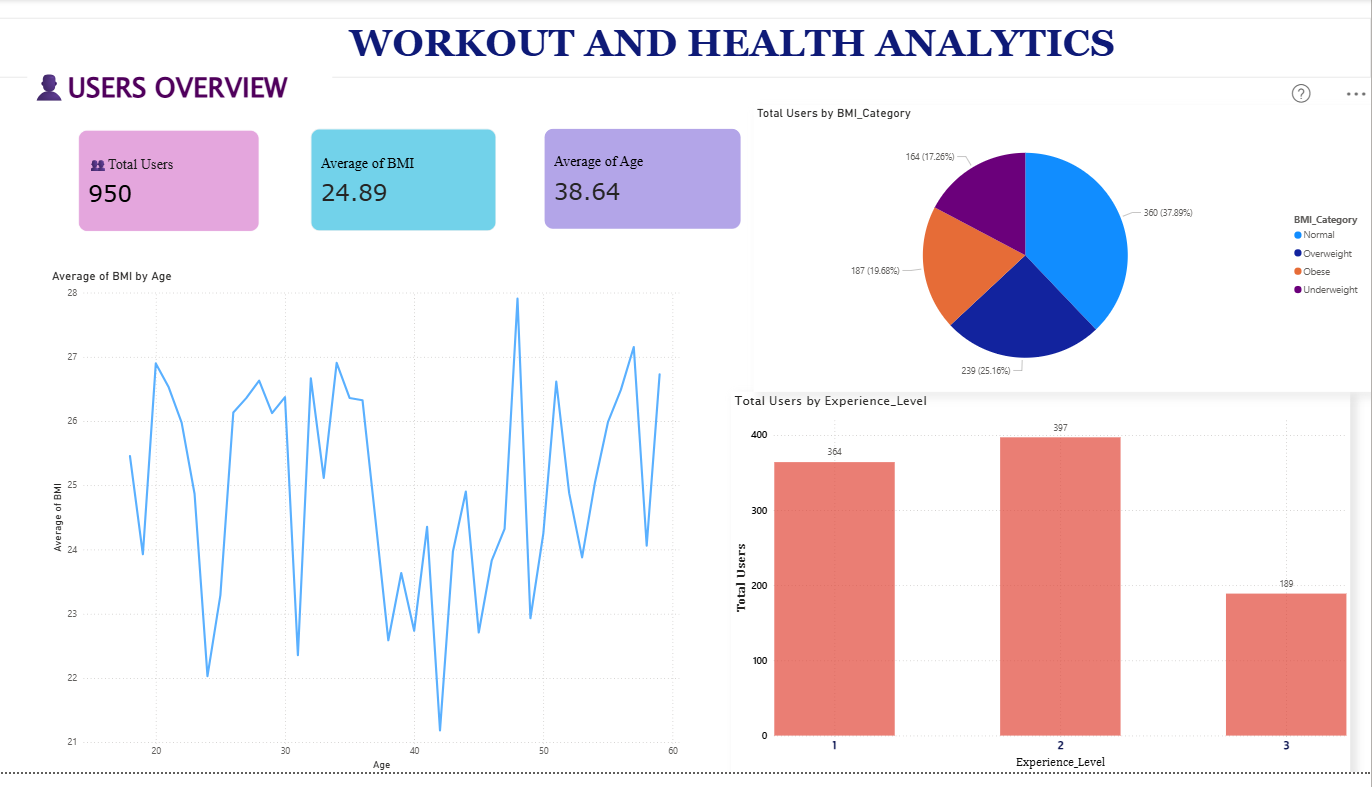

The dashboard page shown, as its layout file describes it:
{"tool":"powerbi","page":{"name":"Page 1","canvas":[1920,1080],"ordinal":0},"visuals":[{"type":"textbox","box":[0,33,1920.5,77],"z":0},{"type":"textbox","box":[18.3,93.5,410.9,89.9],"z":2000},{"type":"cardVisual","fields":{"Data":["User_Info.Total Users"]},"box":[117.4,194.4,288,176.1],"z":3000},{"type":"cardVisual","fields":{"Data":["Avg(User_Info.Age)"]},"box":[748.4,196.3,308.2,174.3],"z":4000},{"type":"cardVisual","fields":{"Data":["Avg(User_Info.BMI)"]},"box":[429.2,192.6,293.5,177.9],"z":5000},{"type":"columnChart","fields":{"Category":["User_Info.Experience_Level"],"Y":["User_Info.Total Users"]},"box":[1056.5,548.4,863.9,531.9],"z":6000},{"type":"pieChart","fields":{"Category":["User_Info.BMI_Category"],"Y":["User_Info.Total Users"]},"box":[1057,167.4,863.4,380.2],"z":7000},{"type":"lineChart","fields":{"Category":["User_Info.Age"],"Y":["Avg(User_Info.BMI)"]},"box":[89.9,453.1,966.6,627.3],"z":8000}]}

Visuals, with their boxes in screenshot pixels (x1, y1, x2, y2), scaled from the page's 1920x1080 canvas onto the 1372x787 screenshot:
textbox: bbox(0, 24, 1371, 80)
textbox: bbox(13, 68, 307, 134)
cardVisual - User_Info.Total Users: bbox(84, 142, 290, 270)
cardVisual - Avg(User_Info.Age): bbox(535, 143, 755, 270)
cardVisual - Avg(User_Info.BMI): bbox(307, 140, 516, 270)
columnChart - User_Info.Experience_Level x User_Info.Total Users: bbox(755, 400, 1371, 786)
pieChart - User_Info.BMI_Category x User_Info.Total Users: bbox(755, 122, 1371, 399)
lineChart - User_Info.Age x Avg(User_Info.BMI): bbox(64, 330, 755, 786)
